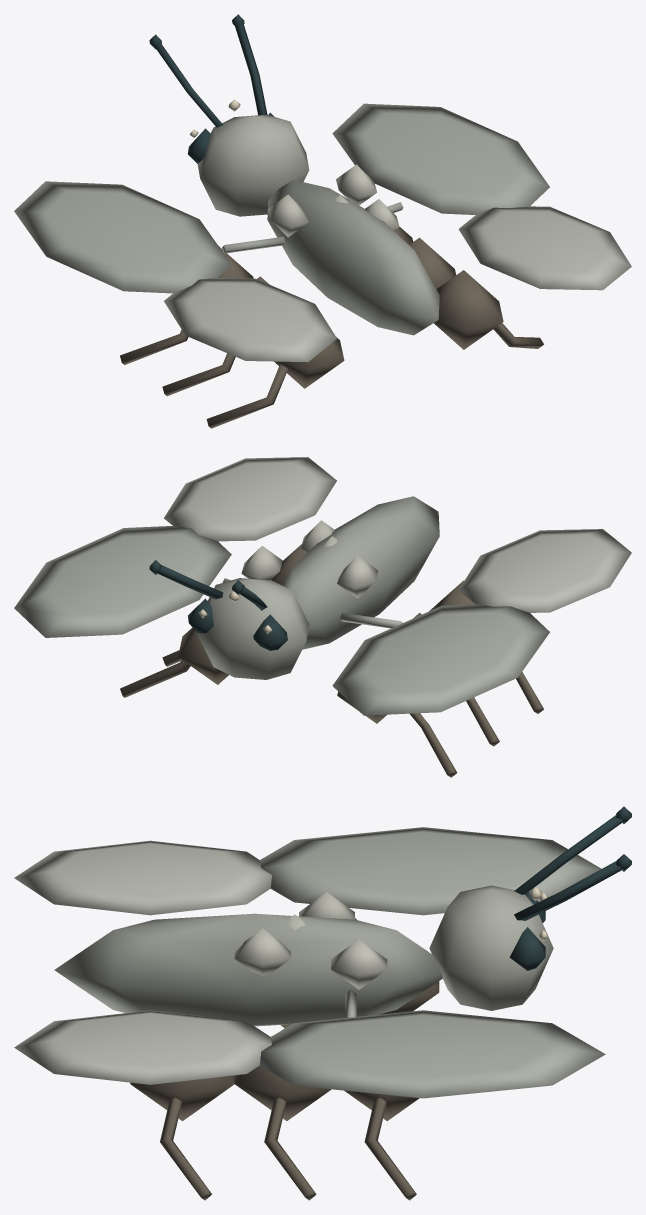
Rendered from insect_winter_moth.glb.
3 renders of one model, top to bottom at view 1: azimuth 30°, elevation 25°; view 2: azimuth 150°, elevation 25°; view 3: azimuth 270°, elevation 25°, orthographic. The views are drawn at different scales.
Parts seen in each view (by area): view 1: Model; view 2: Model; view 3: Model.
Boxes of the visible parts, bbox=[...] form: Model: bbox=[14, 14, 631, 428]; Model: bbox=[14, 457, 631, 777]; Model: bbox=[14, 806, 631, 1200].
Bounding box in the file's own units: 0.15 × 0.0713 × 0.1444.
